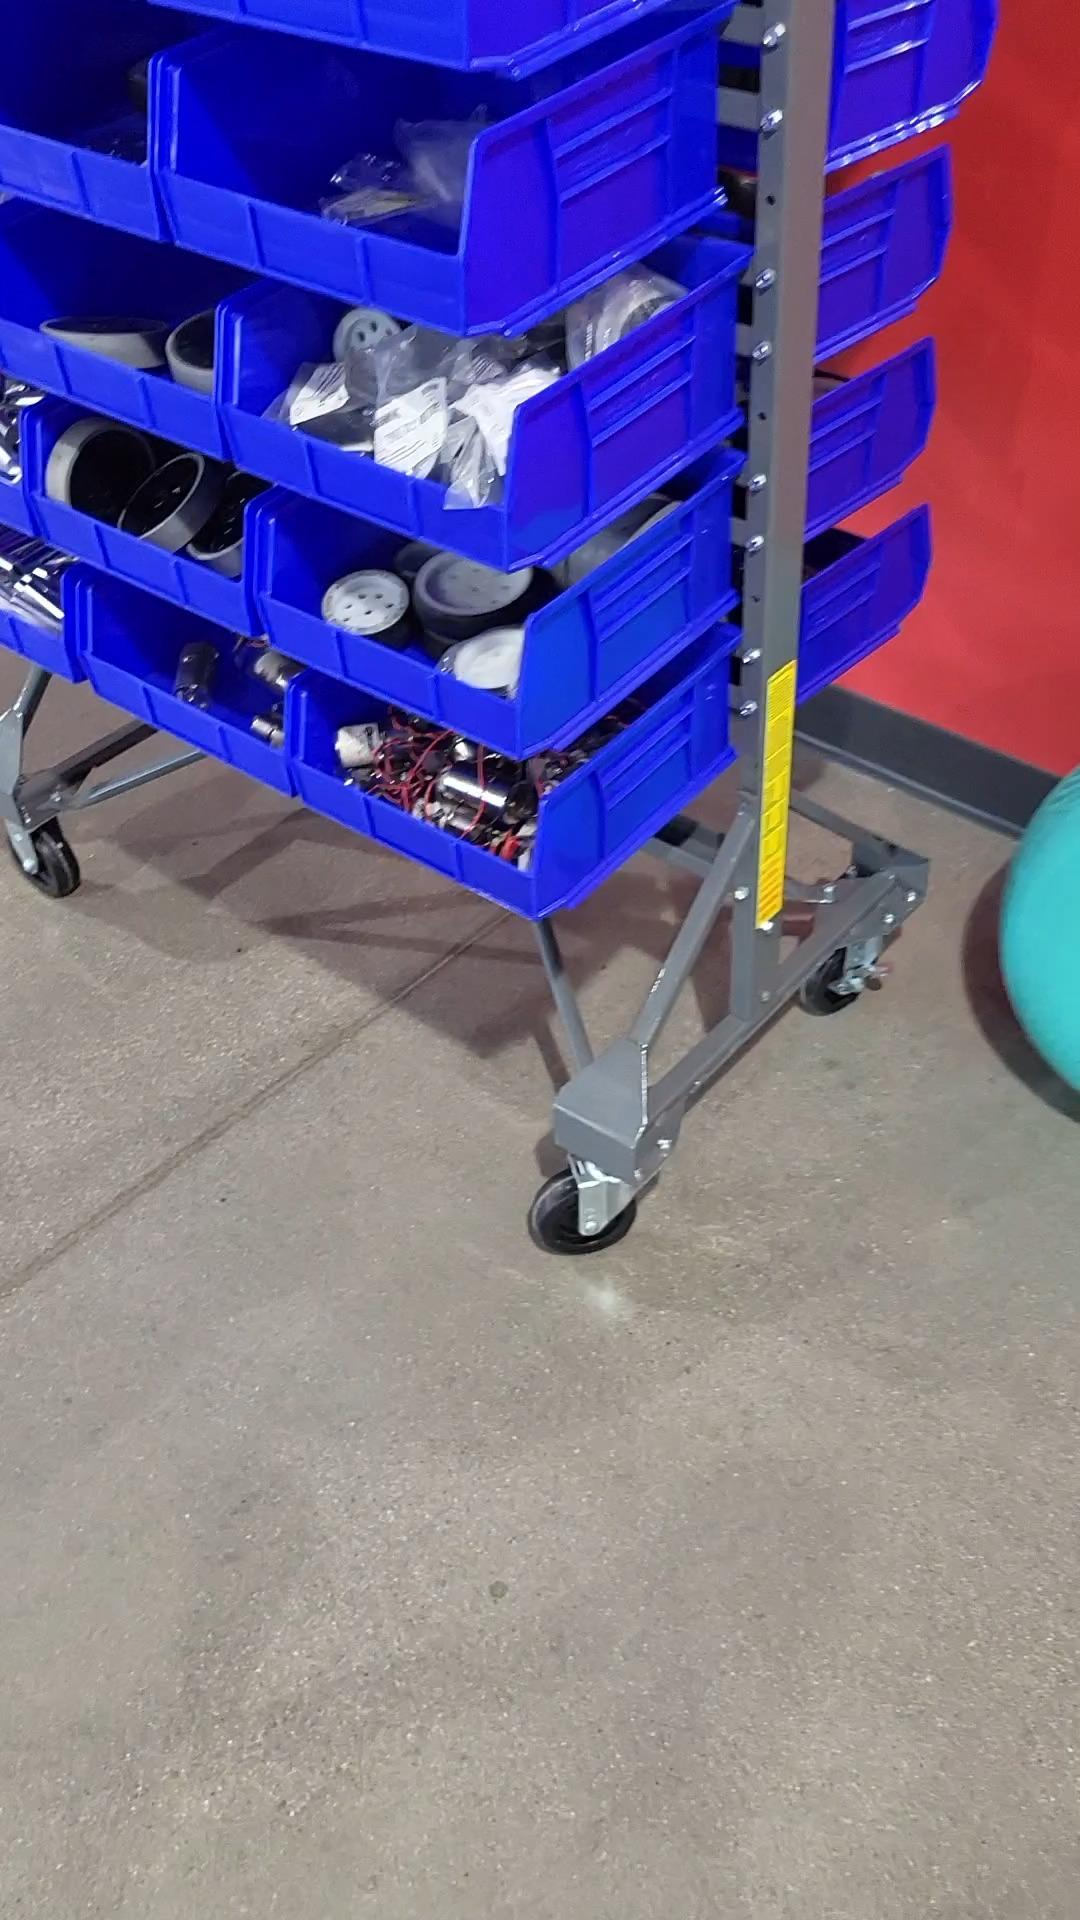algae: (1011, 775, 1080, 1097)
